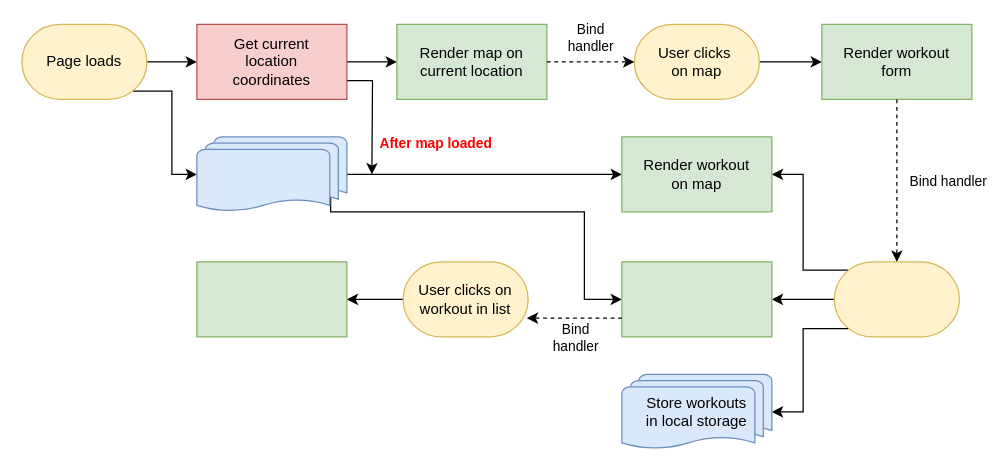
This 1008x471 diagram has some shape labels left out. The centre of each missing label's shape, as x and y in pixels:
"Load workouts from local storage" goes at [271,174].
"Move map to workout location" goes at [271,299].
"Render workout in list" goes at [696,299].
"User submits new workout" goes at [896,299].
